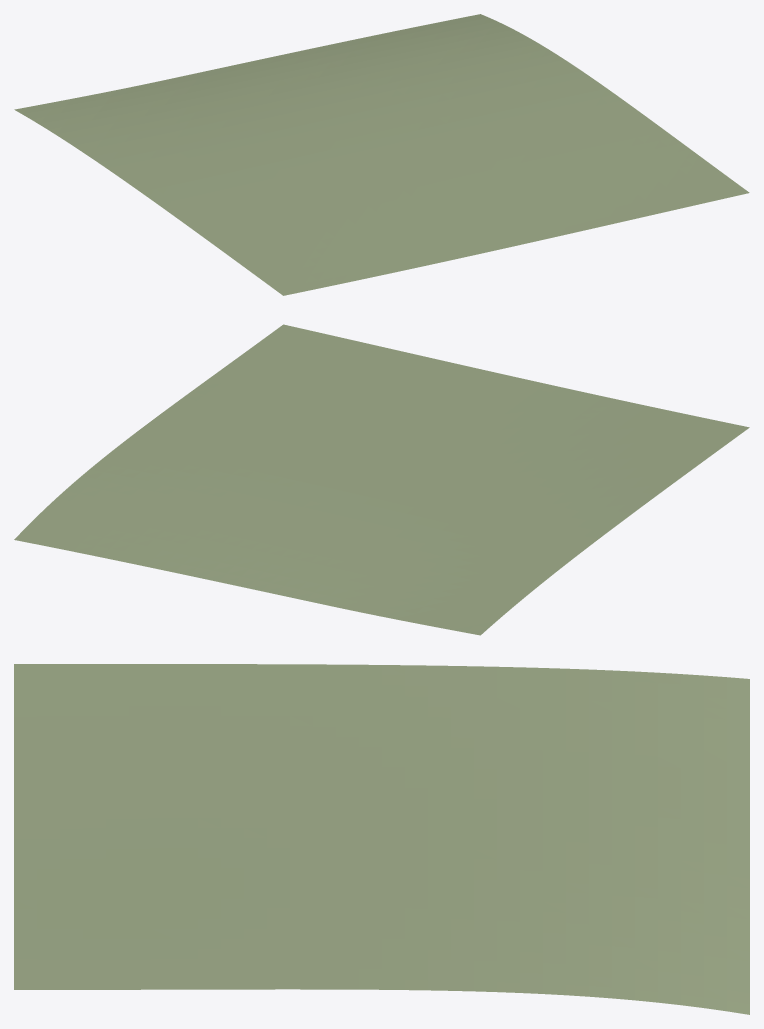
File: expanse-0-6.glb
3 renders of one model, top to bottom at view 1: azimuth 30°, elevation 25°; view 2: azimuth 150°, elevation 25°; view 3: azimuth 270°, elevation 25°, orthographic. The views are drawn at different scales.
Visible parts, largest first — view 1: expanse-0-6; view 2: expanse-0-6; view 3: expanse-0-6.
Part boxes in pixels (x1,y1,x2,y2): expanse-0-6: (14, 14, 749, 295); expanse-0-6: (14, 324, 749, 635); expanse-0-6: (14, 664, 749, 1014).
Size of the model in its own units: 256 by 15.33 by 256.
